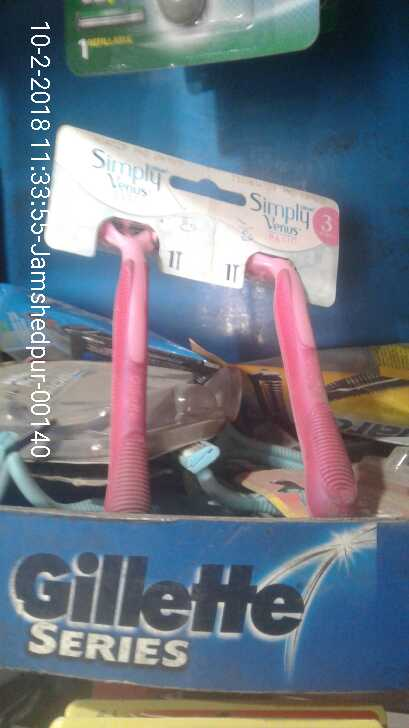reject: (144, 282, 269, 377)
